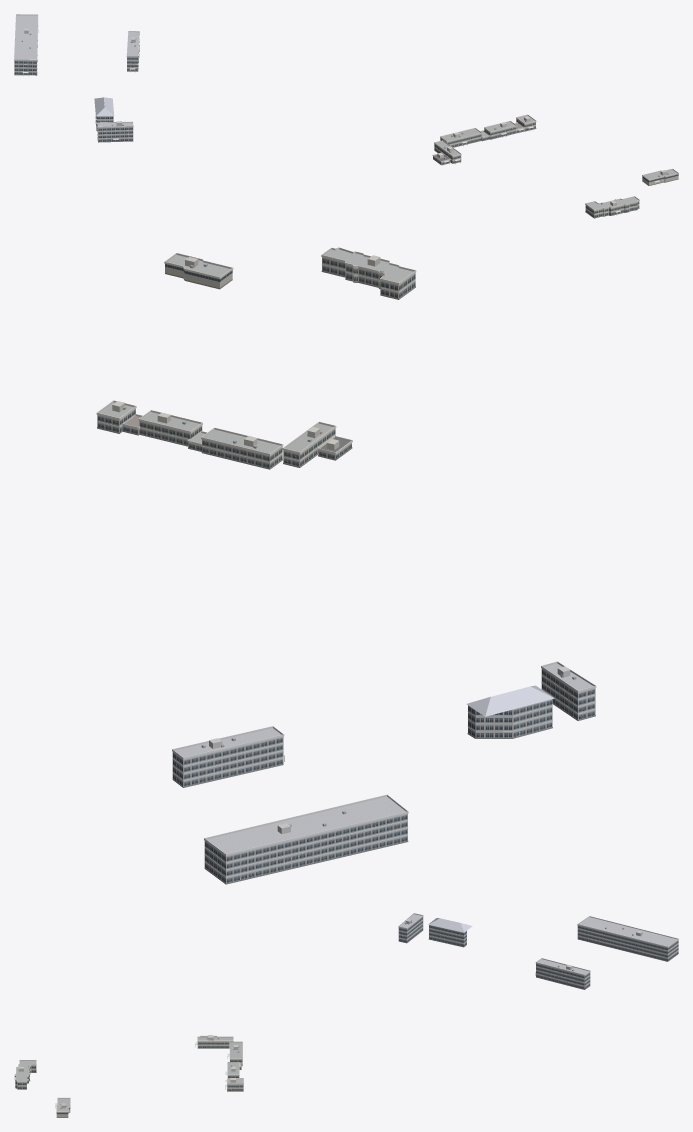
3 views of the same model, one above another, from view 1: azimuth 30°, elevation 25°; view 2: azimuth 150°, elevation 25°; view 3: azimuth 270°, elevation 25° (orthographic). The views are drawn at different scales.
Parts seen in each view (by area): view 1: 1425270045, scan-bjfw, 1425270042, cwxj-a, 1425270044, 1425270043, scan-051, cwxj-b, cwxj-w; view 2: 1425270045, 1425270044, 1425270043, scan-bjfw, 1425270042, cwxj-a, scan-051, cwxj-b, cwxj-w, cwxj-c; view 3: 1425270045, 1425270044, 1425270043, 1425270042, scan-bjfw, cwxj-w.
Part boxes in pixels (box(x1,y1,x2,y2)): 1425270045: box(14, 14, 38, 75); scan-bjfw: box(585, 196, 639, 218); 1425270042: box(97, 121, 133, 142); cwxj-a: box(440, 128, 481, 147); 1425270044: box(126, 31, 139, 72); 1425270043: box(94, 97, 114, 131); scan-051: box(642, 168, 678, 185); cwxj-b: box(484, 121, 516, 139); cwxj-w: box(434, 140, 461, 163); 1425270045: box(204, 794, 408, 884); 1425270044: box(172, 726, 284, 787); 1425270043: box(466, 685, 554, 738); scan-bjfw: box(321, 247, 416, 299); 1425270042: box(541, 661, 596, 720); cwxj-a: box(201, 427, 283, 469); scan-051: box(164, 253, 233, 289); cwxj-b: box(138, 410, 202, 446); cwxj-w: box(282, 421, 336, 467); cwxj-c: box(96, 400, 136, 433); 1425270045: box(577, 916, 678, 961); 1425270044: box(535, 958, 590, 989); 1425270043: box(428, 918, 472, 947); 1425270042: box(398, 913, 423, 943); scan-bjfw: box(14, 1060, 36, 1089); cwxj-w: box(195, 1036, 233, 1048).
Size of the model in its own units: 423 by 20.63 by 628.
5 materials, 4 textured.
